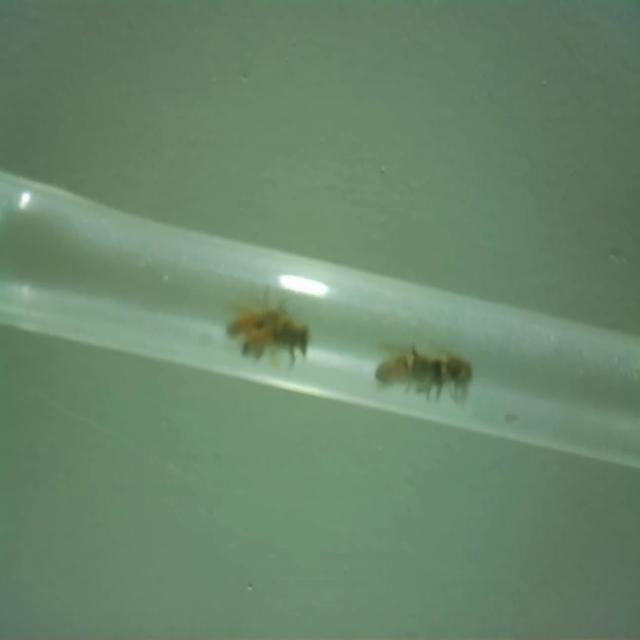Honeybee-Detection: (227, 307, 309, 367), (380, 341, 440, 396), (428, 340, 473, 403)
